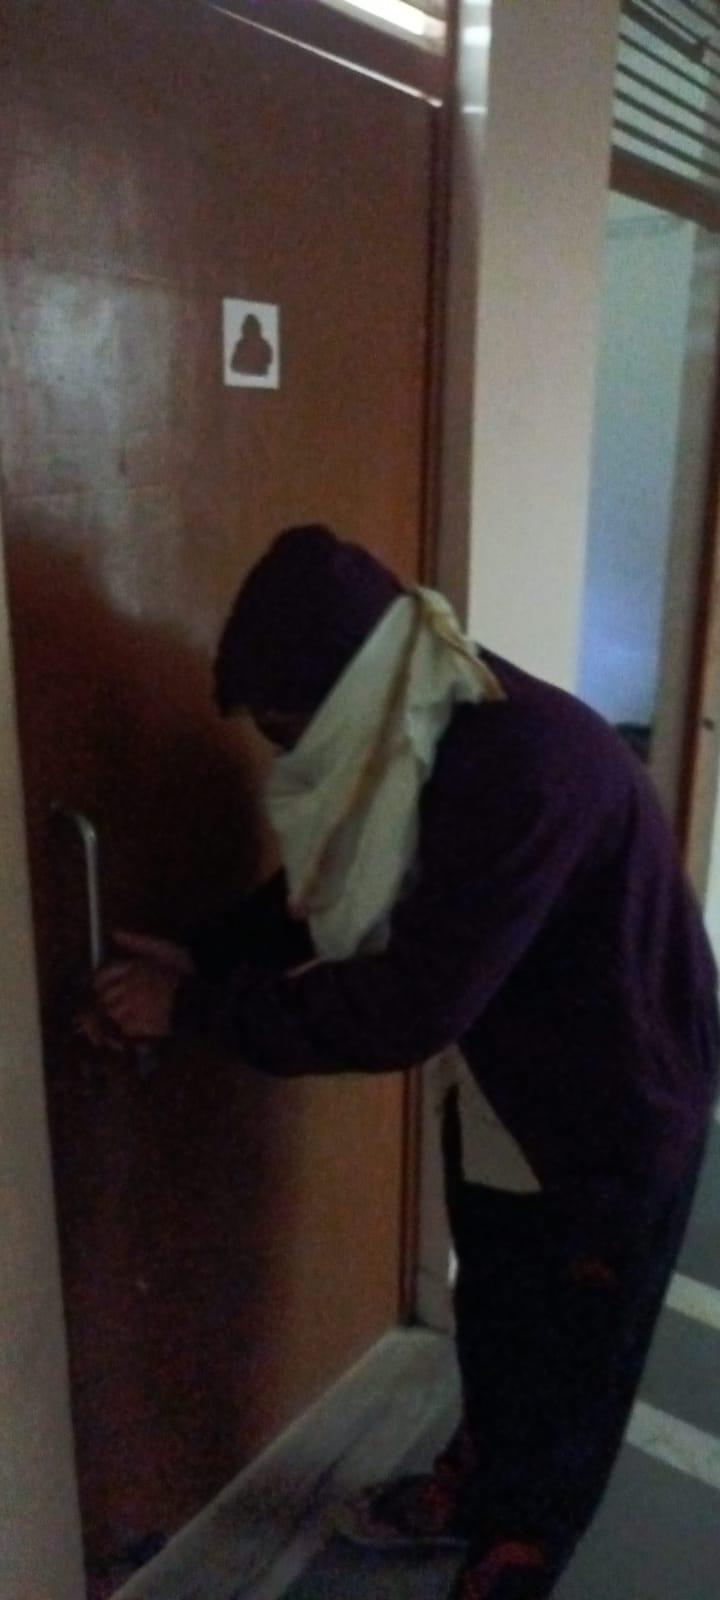suspicion: (15, 450, 720, 1600), (135, 450, 720, 1600)
